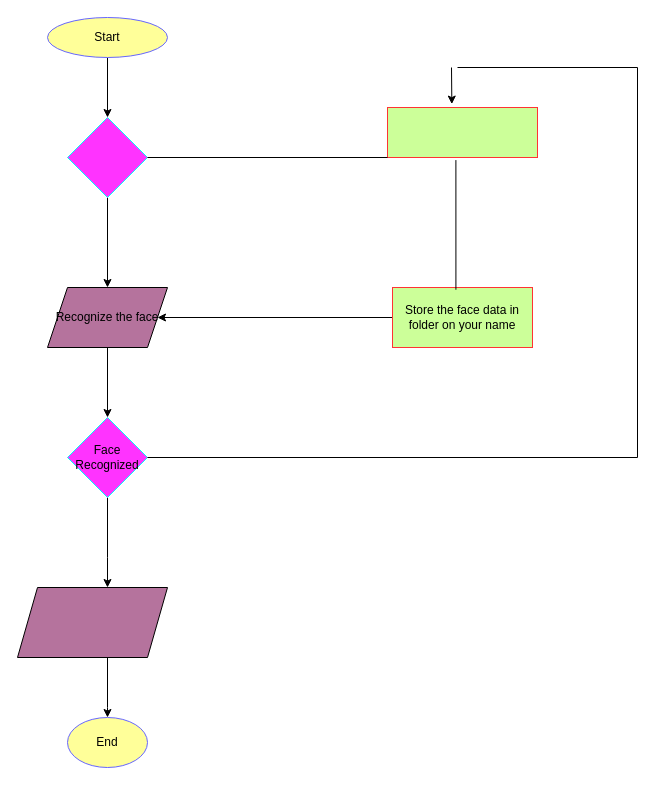
This 656x785 diagram has some shape labels left out. The shapes that lost their labels are listed below. From the top down, each one's centre as x and y in pixels, then its label:
At (462,132): "Give your photograph".
At (107,157): "New User".
At (92,622): "Stored in csv file with Registration Number & Date Timme of Entry".
